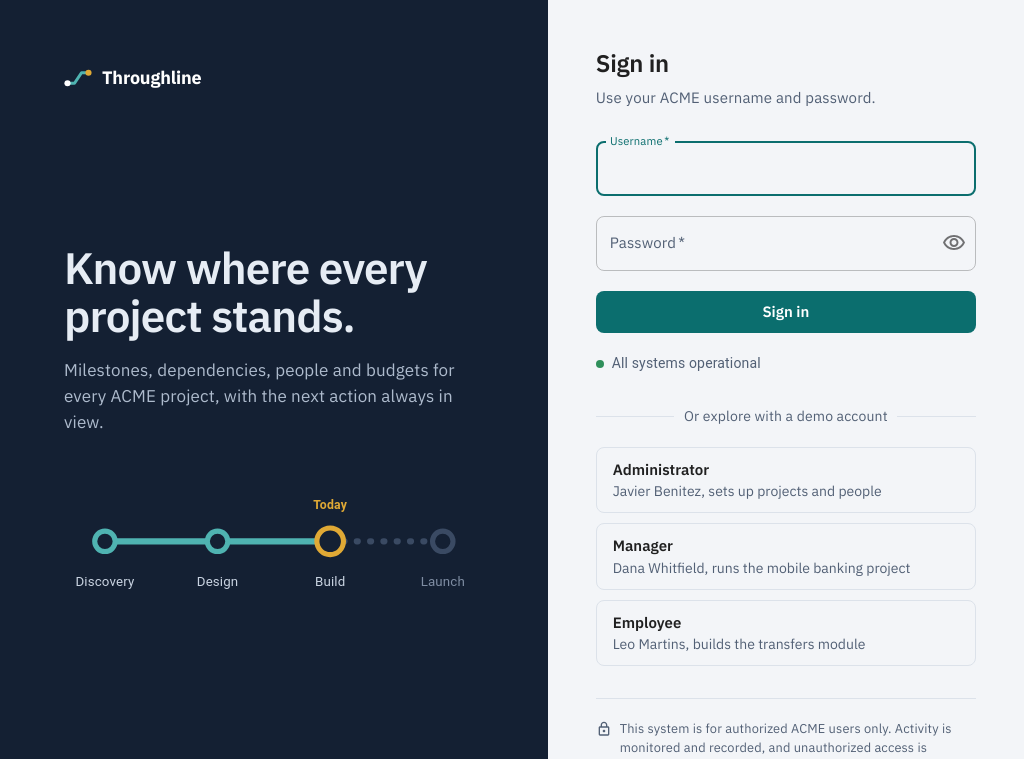
Test: Login page › explains a locked account
Type "admin" into the field labelled "Username *" at (786, 169), box [596, 142, 976, 196]
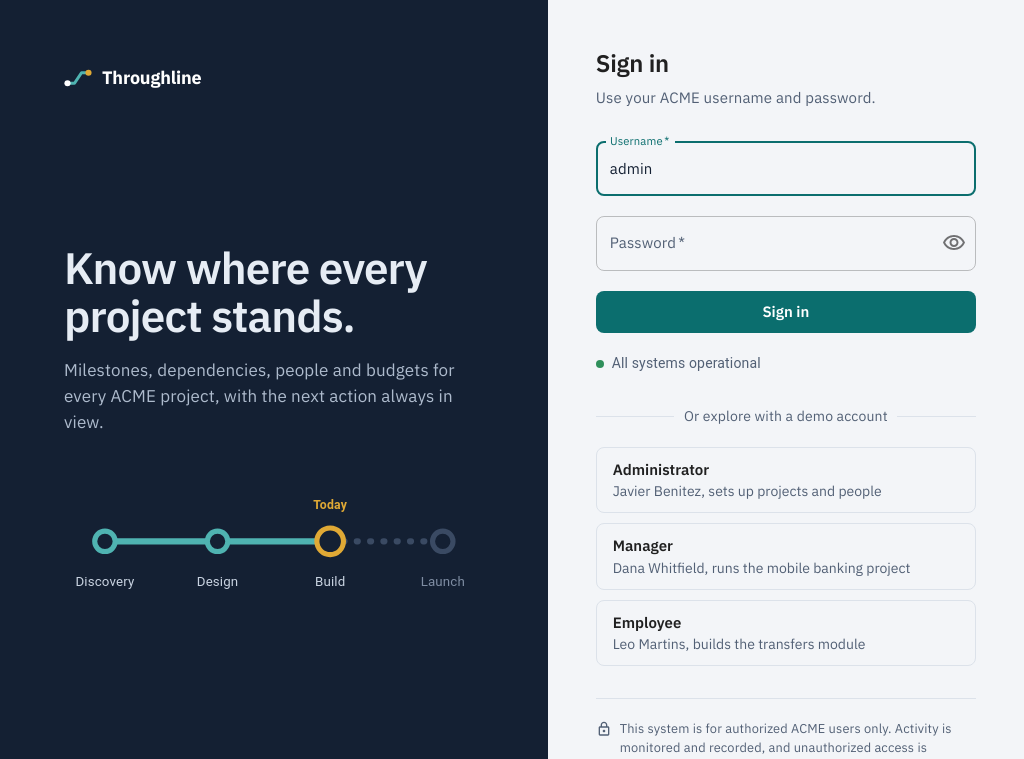
Type "Admin123!" into the password field labelled "Password *" at (761, 244), box [596, 216, 926, 271]
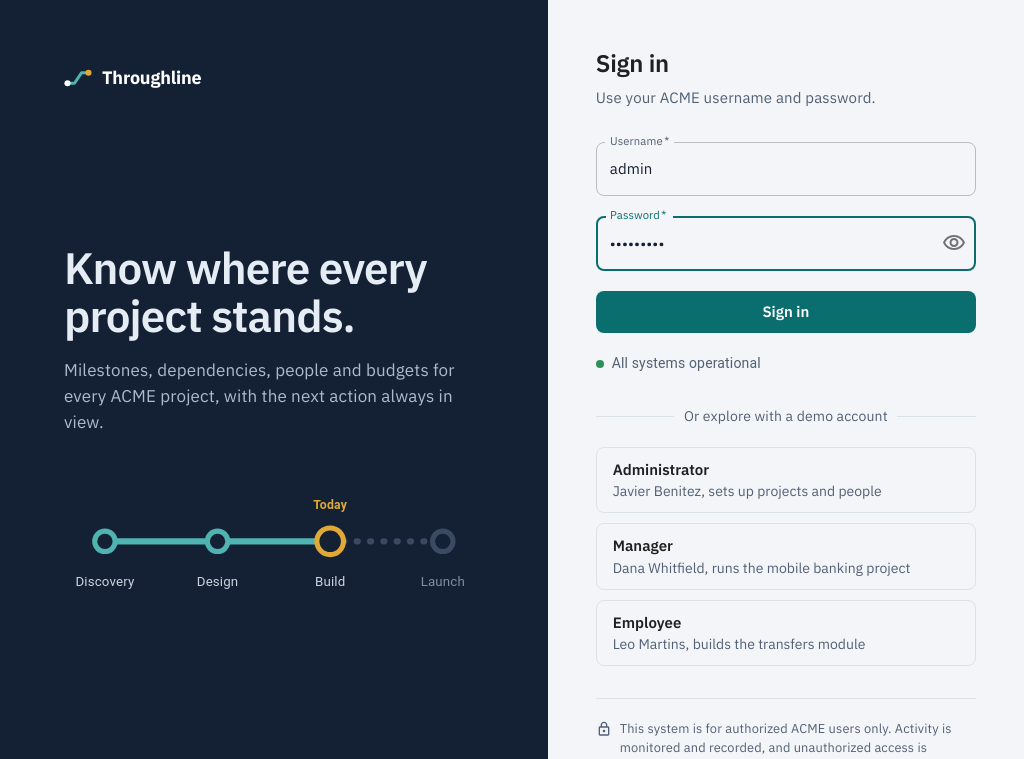
Click the button "Sign in" at (786, 312), box [596, 291, 976, 333]
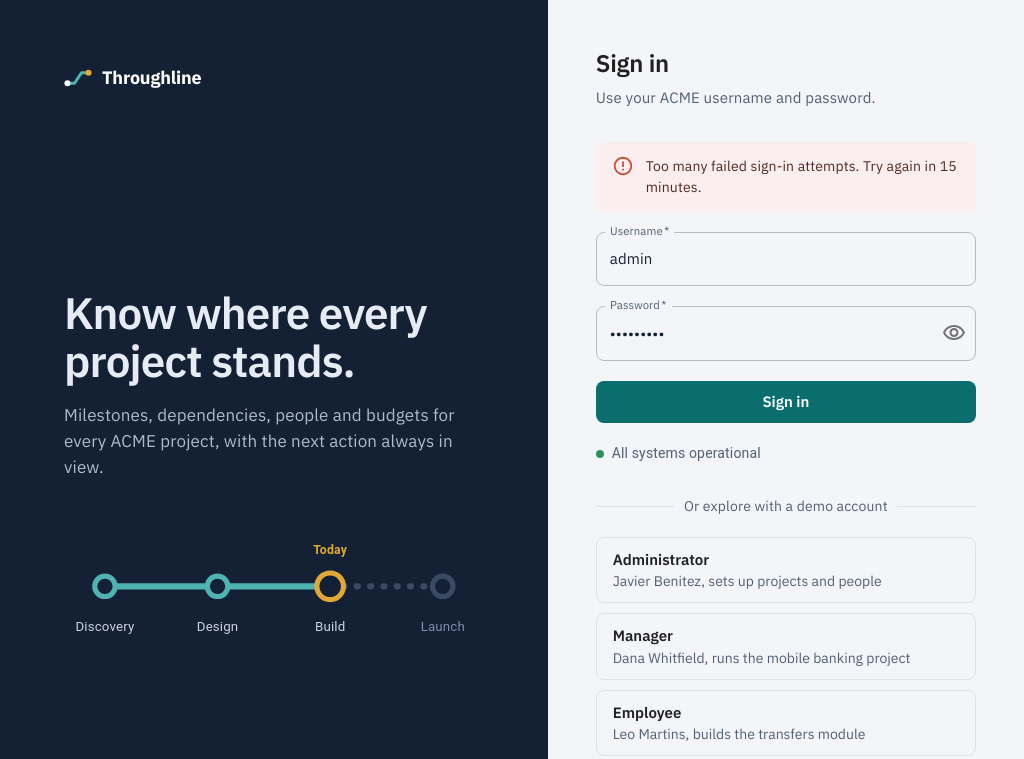
expect the text "Too many failed sign-in attempts. Try again in 15 minutes." is shown: met, box [646, 148, 960, 206]
